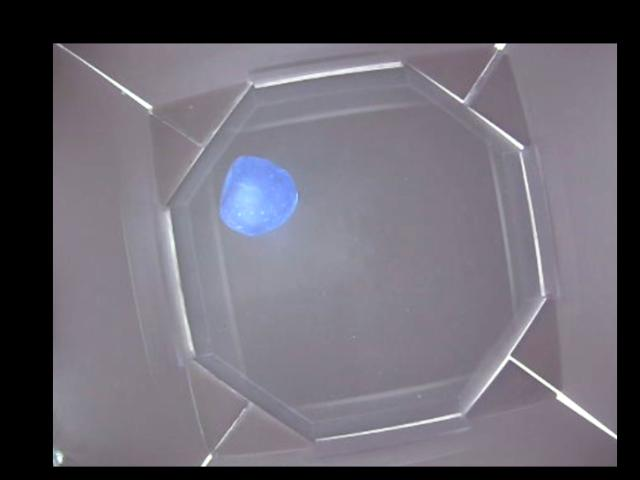Potato: (217, 158, 300, 232)
